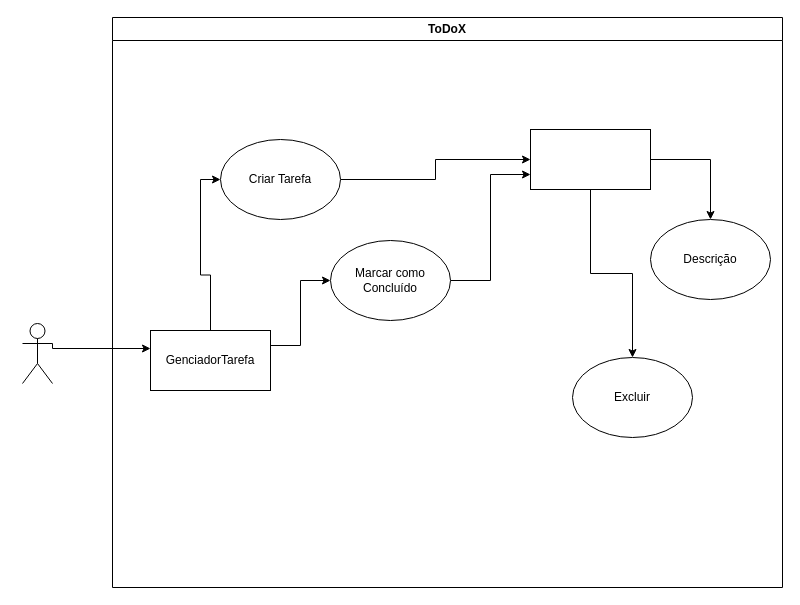
Some shapes in this 800 by 605 pixel diagram are drawn without their labels. The shapes that lost their labels are listed below. From the top down, each one's centre as x and y in pixels, then its label:
At (590,159): "Tarefa".
At (37,353): "Usuário".
